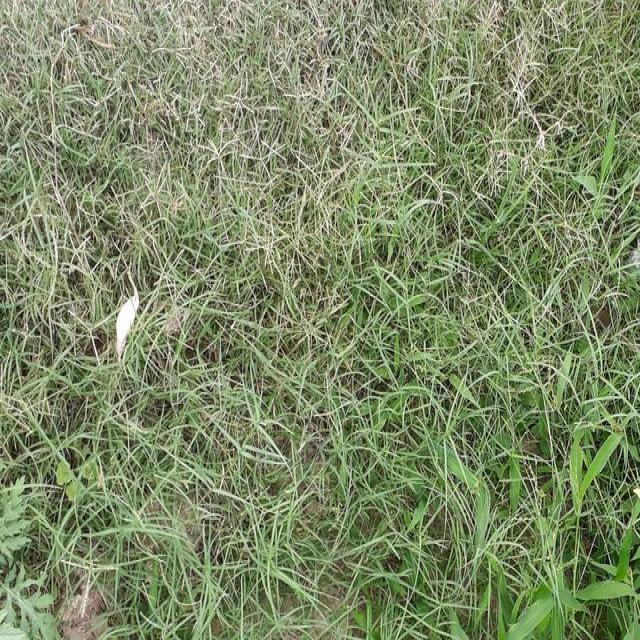weed: (10, 45, 596, 457), (407, 0, 640, 409), (441, 408, 640, 640), (4, 484, 66, 640)
